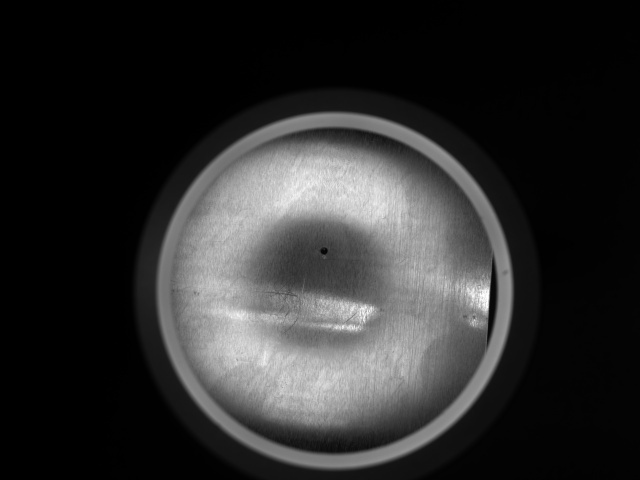zhen_kong: (315, 245, 332, 257)
